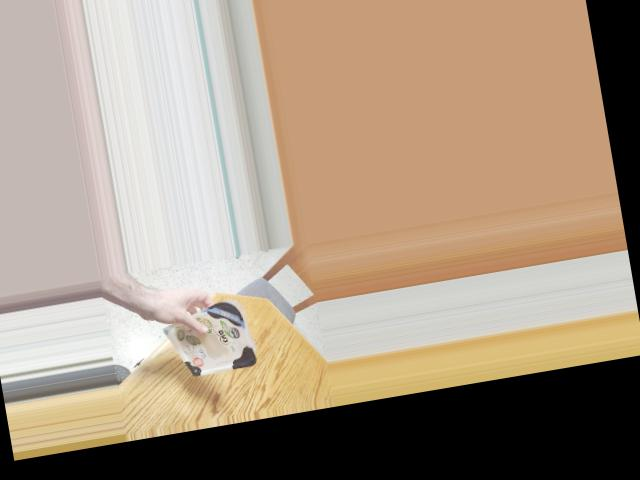cheese: (168, 307, 259, 372)
